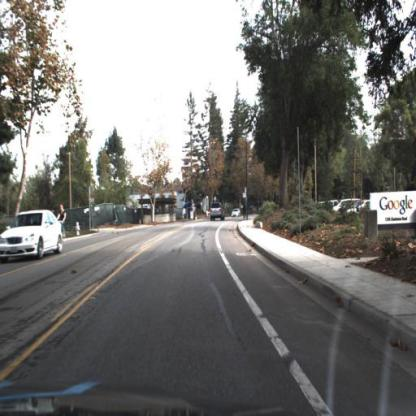biker: (55, 205, 69, 236), (242, 204, 248, 223)
car: (1, 211, 65, 261), (332, 198, 361, 214), (210, 200, 225, 223)
